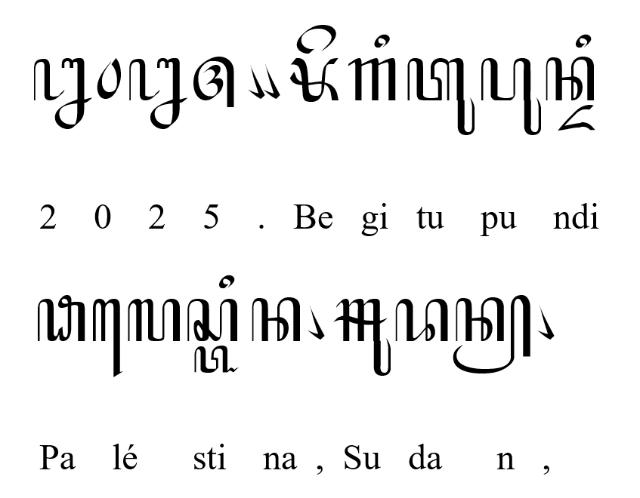-n: (453, 295, 531, 375)
0: (96, 57, 122, 101)
5: (192, 55, 235, 109)
B: (290, 56, 340, 104)
P: (36, 294, 86, 342)
Su: (334, 299, 392, 377)
_d: (556, 103, 596, 131)
_t: (194, 346, 238, 374)
d: (394, 298, 448, 342)
e: (295, 24, 337, 54)
e1: (92, 298, 122, 378)
g: (348, 58, 398, 102)
i: (218, 274, 236, 290), (374, 32, 391, 47), (575, 34, 591, 49)
kom: (307, 305, 325, 341), (262, 64, 280, 98), (538, 305, 554, 341), (248, 64, 264, 98)
l: (128, 297, 180, 343)
n: (545, 56, 595, 102), (251, 298, 301, 342)
ngna: (32, 57, 92, 129), (128, 57, 188, 129)
pu: (481, 58, 542, 134)
s: (186, 299, 238, 343)
tu: (407, 57, 475, 137)
